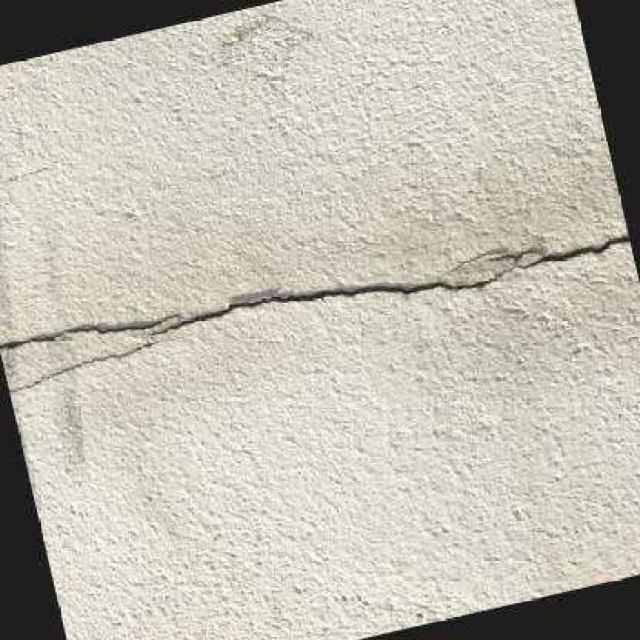D00: (152, 286, 397, 336), (8, 338, 173, 392), (0, 314, 176, 349)
